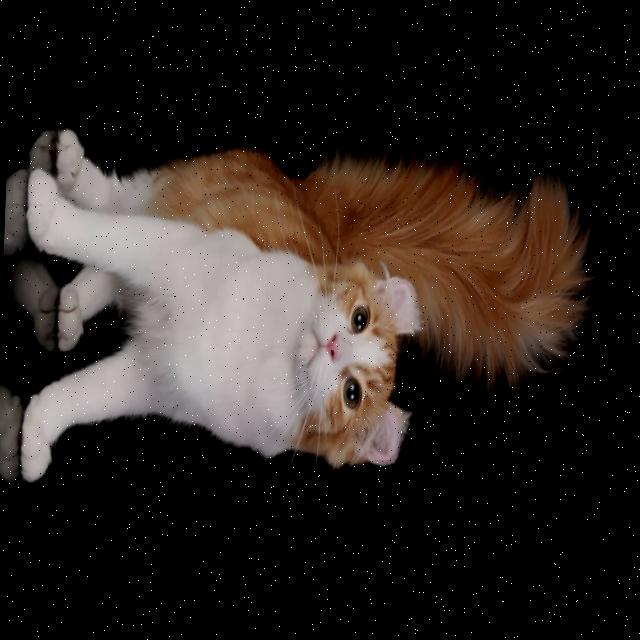American Curl: (12, 96, 600, 512)
